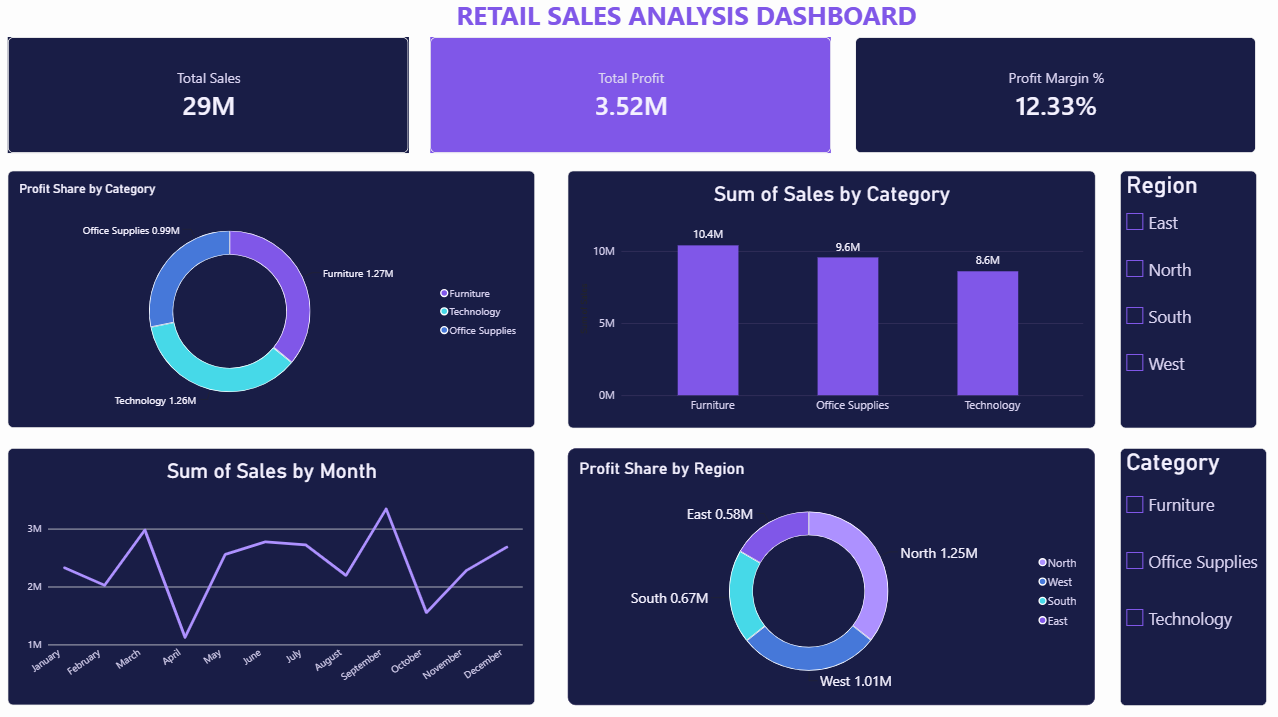

The dashboard page shown, as its layout file describes it:
{"tool":"powerbi","page":{"name":"Retail Sales Dashboard","canvas":[1920,1080],"ordinal":0},"visuals":[{"type":"cardVisual","fields":{"Data":["Clean_Data.Total Sales"]},"box":[48.9,79.6,580.9,168.3],"z":0},{"type":"cardVisual","fields":{"Data":["Clean_Data.Total Profit"]},"box":[660.5,79.6,580,168.3],"z":1000},{"type":"cardVisual","fields":{"Data":["Clean_Data.Profit Margin %"]},"box":[1275.8,79.6,580,168.3],"z":2000},{"type":"columnChart","title":"Sum of Sales by Category ","fields":{"Category":["Clean_Data.Category"],"Y":["Sum(Clean_Data.Sales)"]},"box":[859.6,273.3,763.7,372.8],"z":3000},{"type":"lineChart","title":"Sum of Sales by Month","fields":{"Category":["Clean_Data.Month"],"Y":["Sum(Clean_Data.Sales)"]},"box":[48.9,675,763,372],"z":4000},{"type":"slicer","fields":{"Values":["Clean_Data.Region Fixed"]},"box":[1659.5,273.3,197.3,372.8],"z":5000},{"type":"slicer","title":"Category","fields":{"Values":["Clean_Data.Category"]},"box":[1659.5,675,211.7,372.8],"z":6000},{"type":"textbox","box":[629.8,21.7,803.5,97.7],"z":7000},{"type":"donutChart","title":" Profit Share by Region","fields":{"Category":["Clean_Data.Region Fixed"],"Y":["Sum(Clean_Data.Profit)"]},"box":[859.6,675,763,372],"z":7001},{"type":"donutChart","title":"Profit Share by Category","fields":{"Category":["Clean_Data.Category"],"Y":["Sum(Clean_Data.Profit)"]},"box":[48.9,273.3,763,372],"z":7002}]}

Visuals, with their boxes in screenshot pixels (x1, y1, x2, y2), scaled from the page's 1920x1080 canvas onto the 1278x717 screenshot:
cardVisual - Clean_Data.Total Sales: (x1=33, y1=53, x2=419, y2=165)
cardVisual - Clean_Data.Total Profit: (x1=440, y1=53, x2=826, y2=165)
cardVisual - Clean_Data.Profit Margin %: (x1=849, y1=53, x2=1235, y2=165)
"Sum of Sales by Category " columnChart: (x1=572, y1=181, x2=1081, y2=429)
"Sum of Sales by Month" lineChart: (x1=33, y1=448, x2=540, y2=695)
slicer - Clean_Data.Region Fixed: (x1=1105, y1=181, x2=1236, y2=429)
"Category" slicer: (x1=1105, y1=448, x2=1246, y2=696)
textbox: (x1=419, y1=14, x2=954, y2=79)
" Profit Share by Region" donutChart: (x1=572, y1=448, x2=1080, y2=695)
"Profit Share by Category" donutChart: (x1=33, y1=181, x2=540, y2=428)
